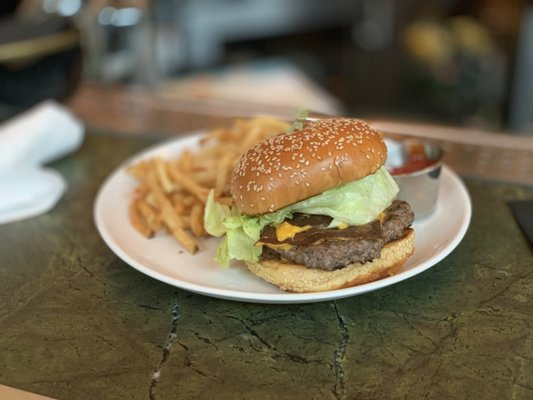soup: (205, 113, 417, 293)
